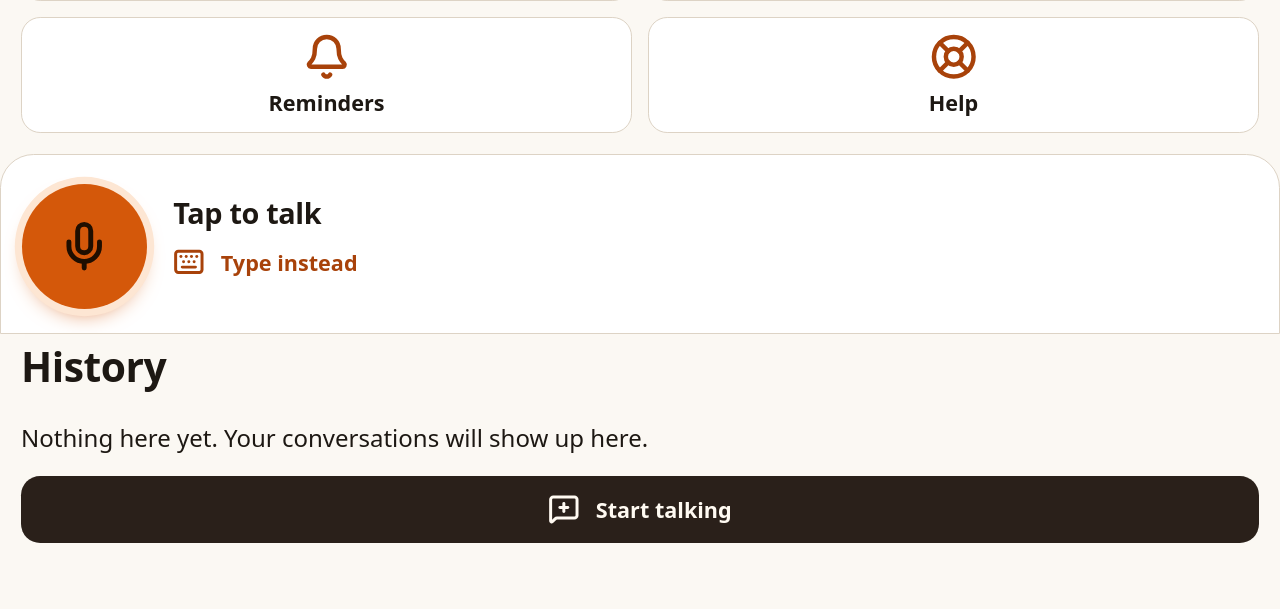
Test case: history and privacy › erase asks first, then removes everything from the device
The width and height of the screenshot is (1280, 609).
(page scrolled)
Click the button "Type instead".
click(265, 262)  # box [158,229,373,296]
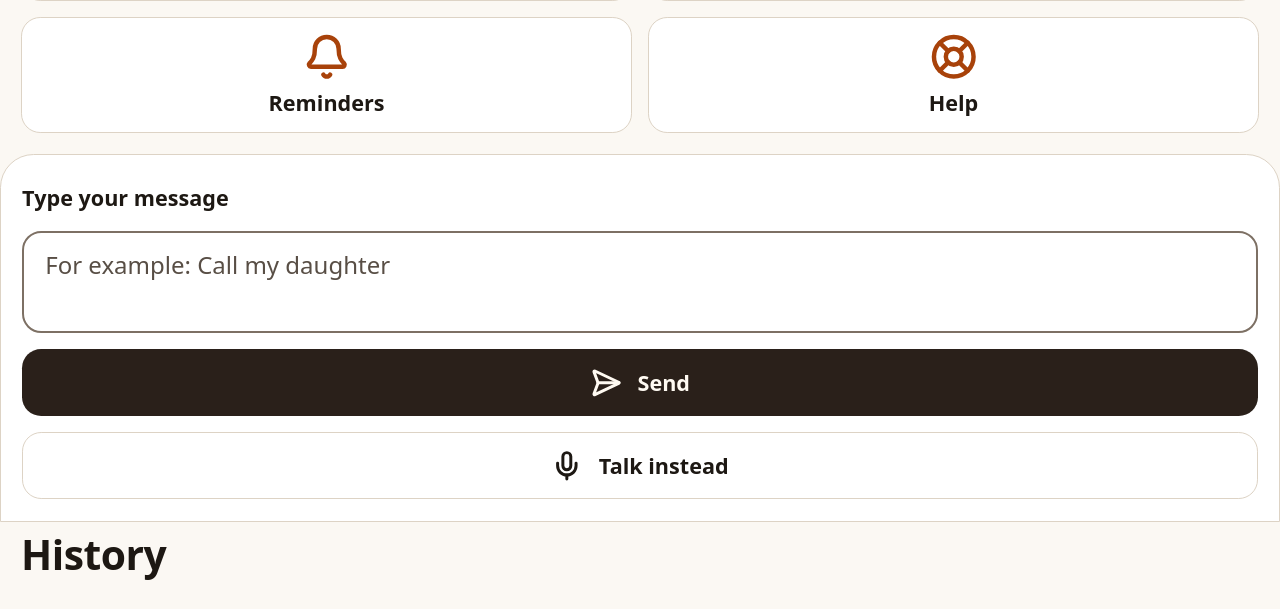
Type "Remind me about pills" into the text box labelled "Type your message".
click(640, 282); type("Remind me about pills")  # box [22,230,1258,333]
Click the button "Send".
click(640, 383)  # box [22,349,1258,416]
(page scrolled)
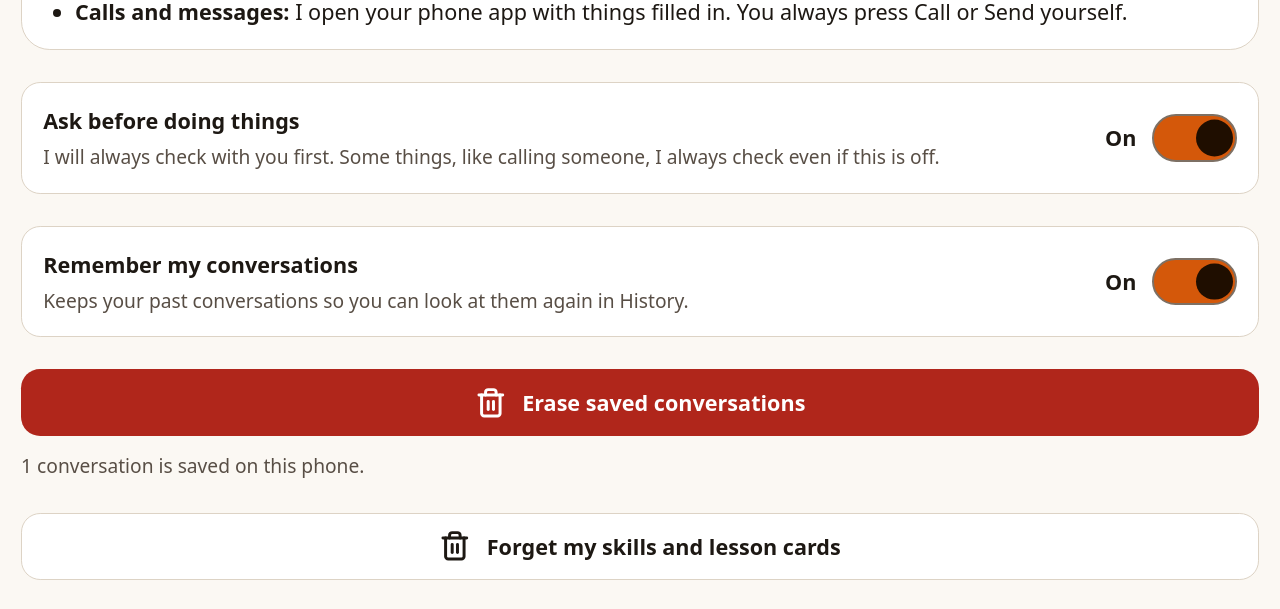
Click the button "Erase saved conversations".
click(640, 403)  # box [21,369,1259,436]
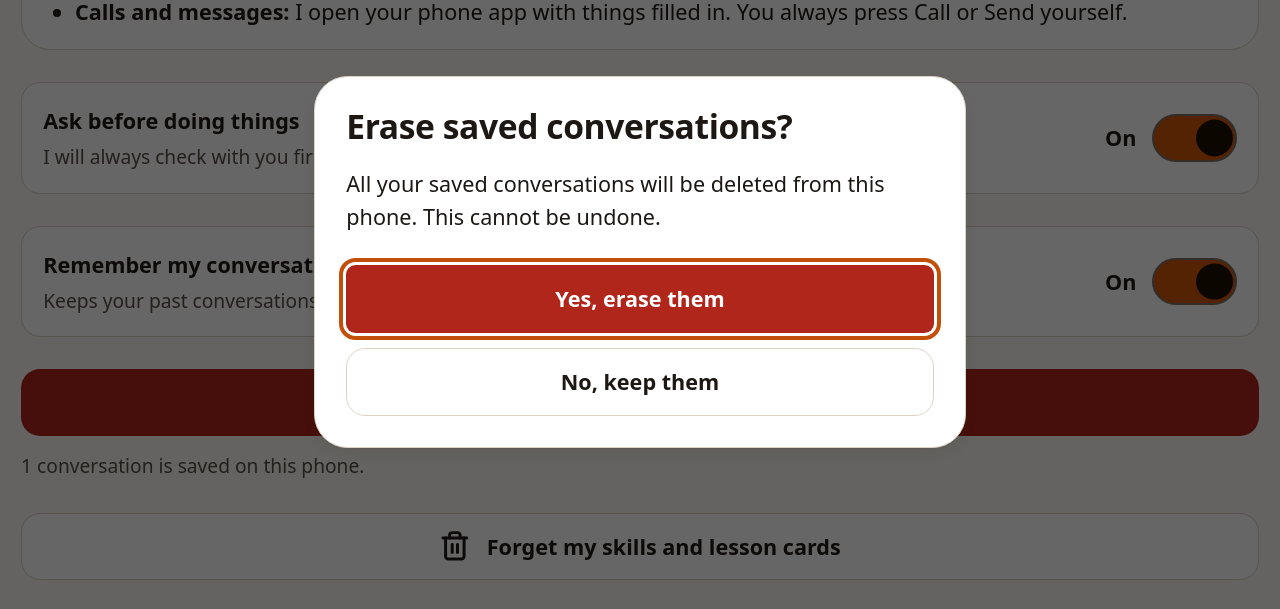
Click the button "No, keep them".
click(640, 382)  # box [346,348,934,416]
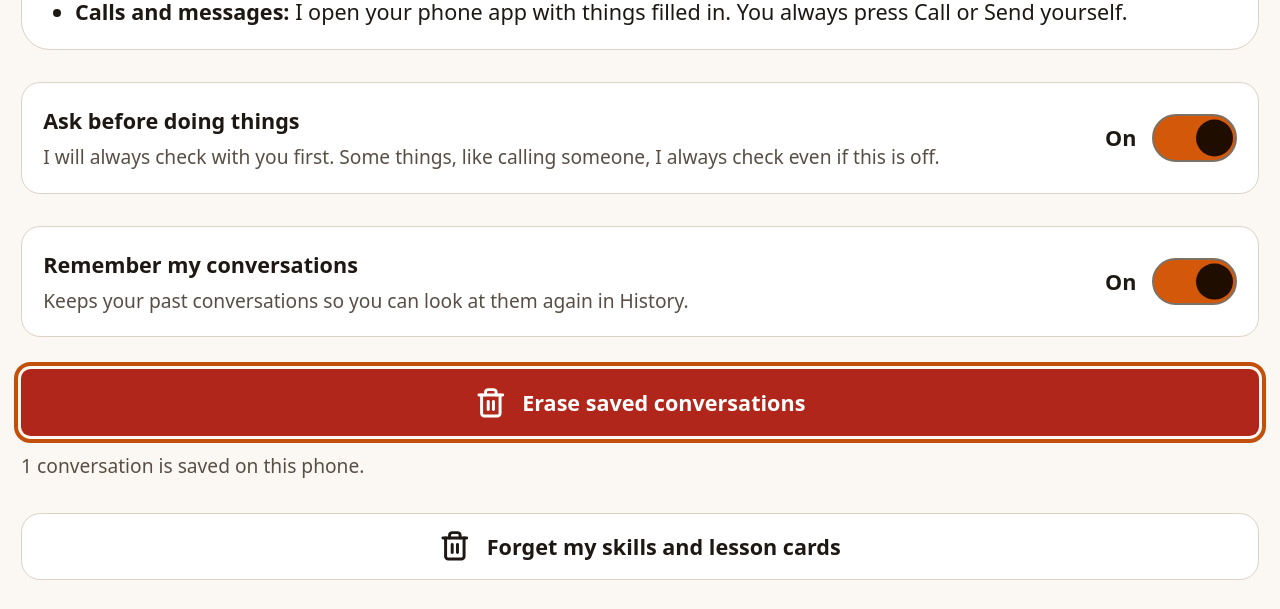
Click the button "Erase saved conversations".
click(640, 403)  # box [21,369,1259,436]
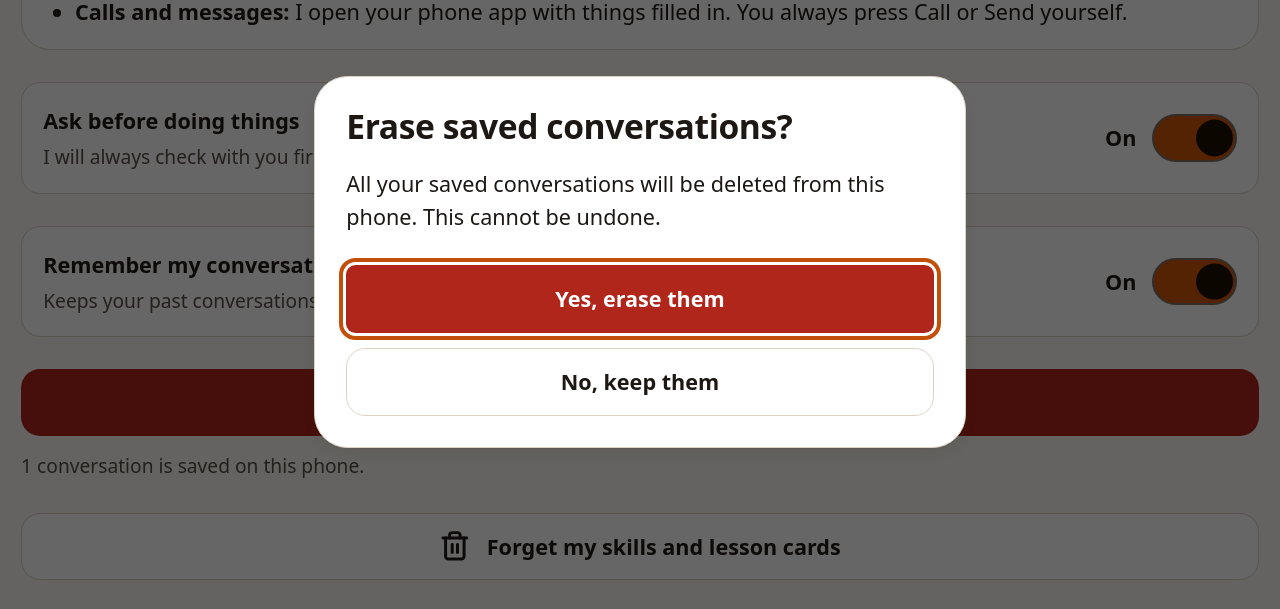
Click the button "Yes, erase them".
click(640, 299)  # box [346,265,934,332]
(page scrolled)
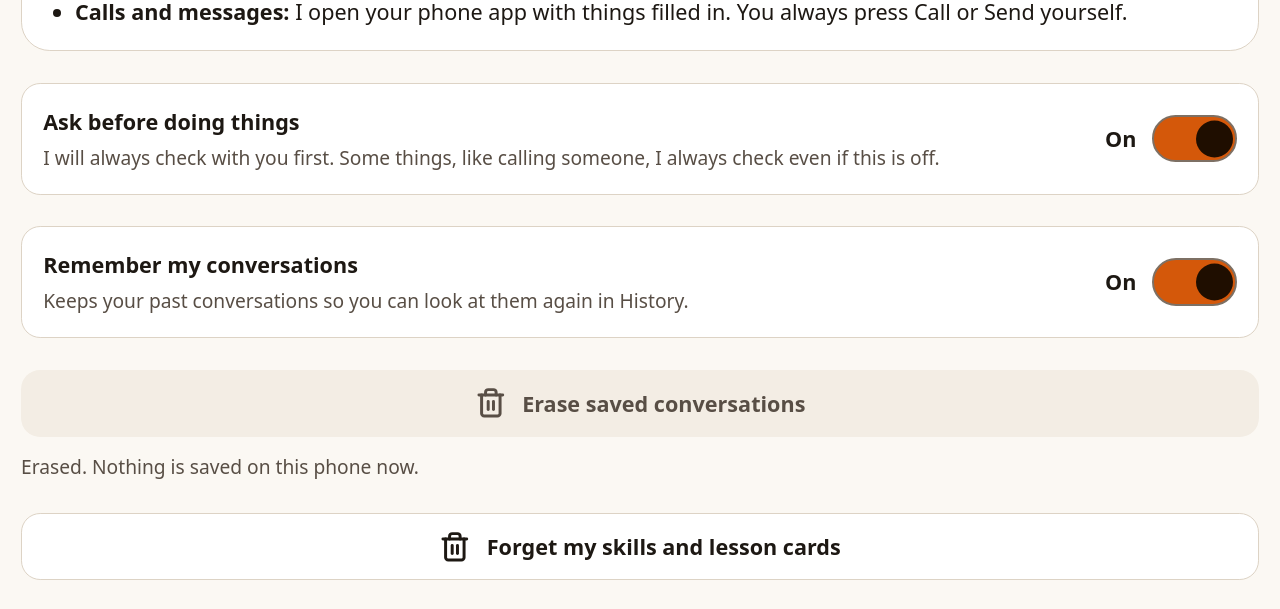
Now the text "Erased. Nothing is saved on this phone now." is shown, box [21,453,419,480]
